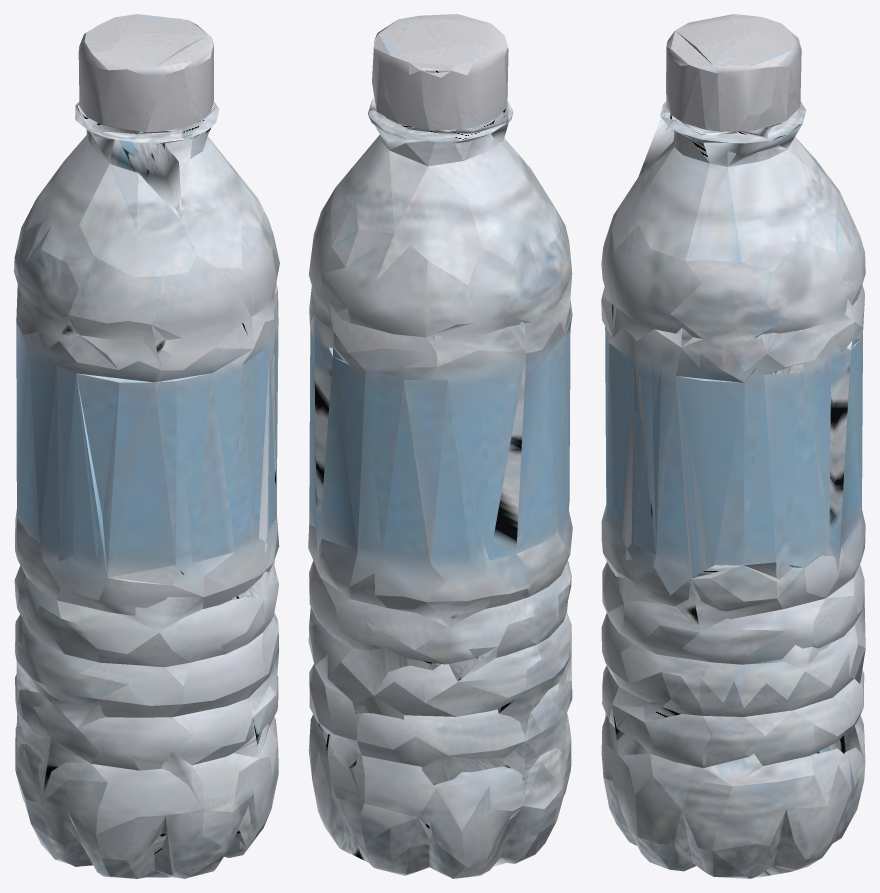
The model's file is w3water.glb.
3 views of the same model, side by side, from view 1: azimuth 30°, elevation 25°; view 2: azimuth 150°, elevation 25°; view 3: azimuth 270°, elevation 25° (orthographic).
Visible parts, largest first — view 1: w3water_near, w3water_far; view 2: w3water_near, w3water_far; view 3: w3water_near, w3water_far.
Part boxes in pixels (box(x1,y1,x2,y2)): w3water_near: box(14, 14, 279, 878); w3water_far: box(16, 24, 278, 877); w3water_near: box(308, 14, 572, 878); w3water_far: box(309, 68, 571, 878); w3water_near: box(601, 14, 865, 878); w3water_far: box(604, 26, 865, 878).
Size of the model in its own units: 0.0629 by 0.21 by 0.0629.
Materials: 1 (1 with a texture image).
